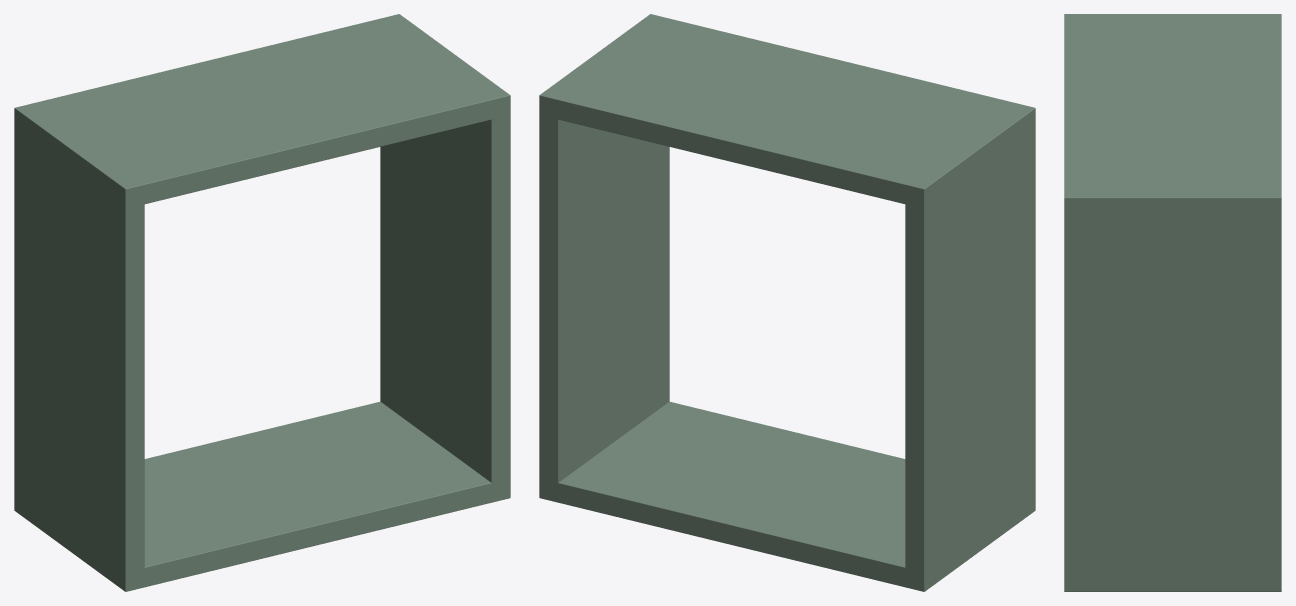
Rendered from MODH_1X1_A_O_VA.glb.
The picture shows the model from 3 angles, left to right: view 1: azimuth 30°, elevation 25°; view 2: azimuth 150°, elevation 25°; view 3: azimuth 270°, elevation 25°; orthographic projection. The views are drawn at different scales.
Bounding box in the file's own units: 360 × 360 × 180.
